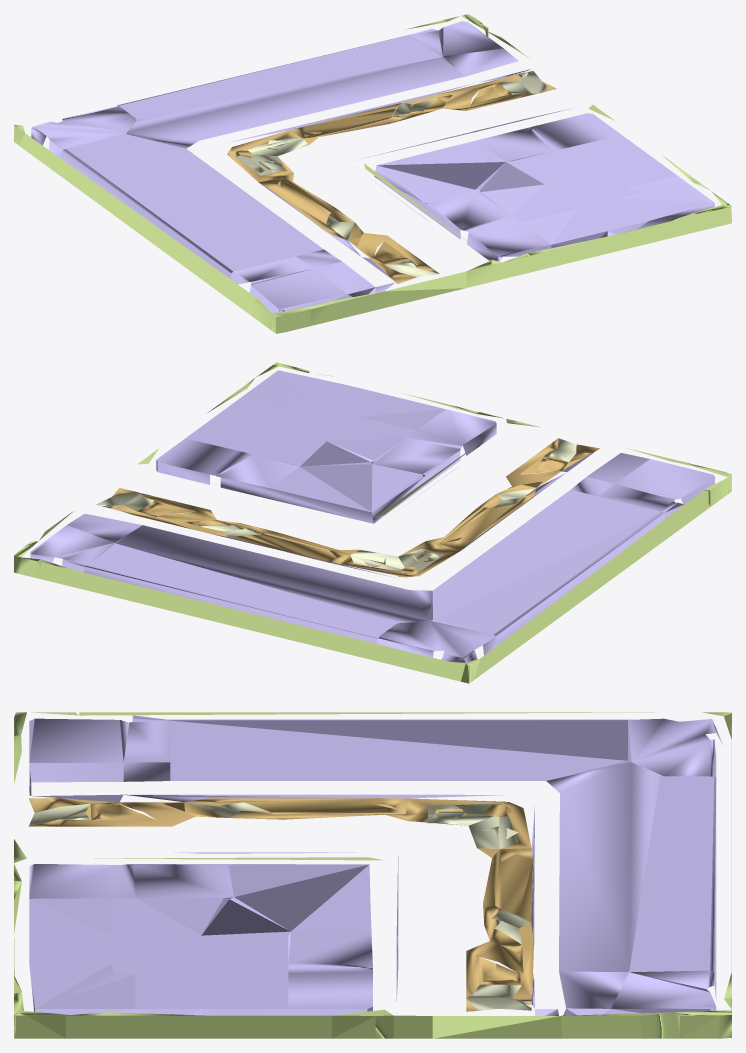
Rendered from floor_corner_16x16_a_lod4.glb.
3 views of the same model, one above another, from view 1: azimuth 30°, elevation 25°; view 2: azimuth 150°, elevation 25°; view 3: azimuth 270°, elevation 25° (orthographic). The views are drawn at different scales.
Bounding box in the file's own units: 16 × 0.5919 × 16.
